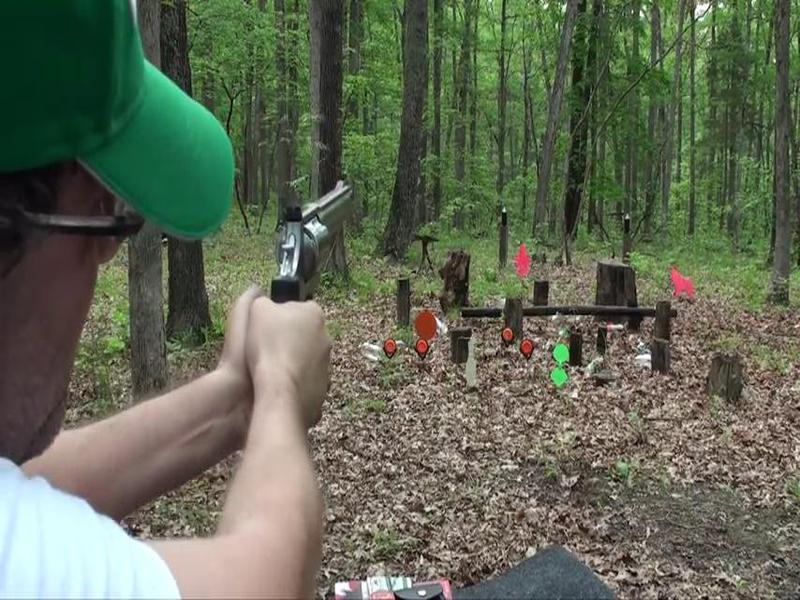Revolver: (262, 164, 376, 335)
